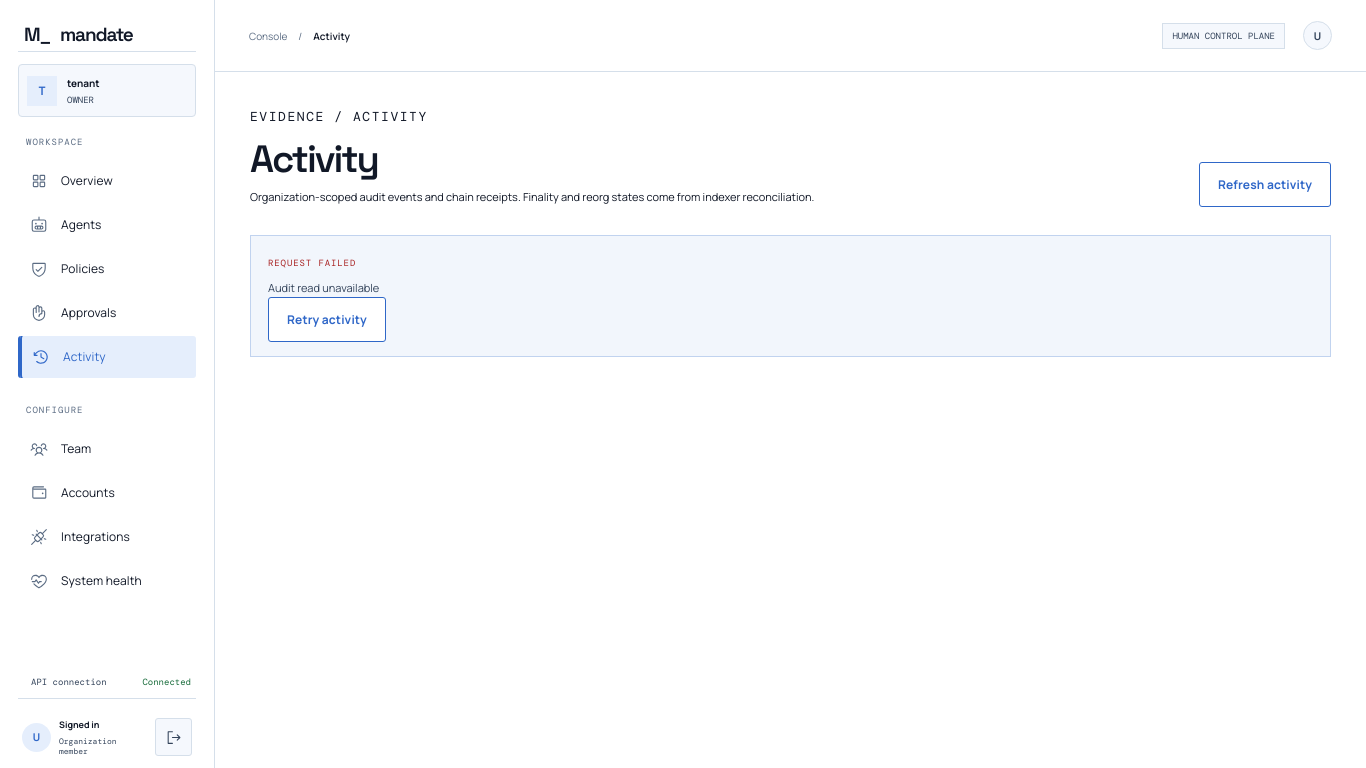
Test: retries a failed activity read and shows the new authoritative audit event
The image size is (1366, 768).
Step 1. Click the button "Retry activity" → (327, 320), box top-left (268, 297), bottom-right (386, 342)
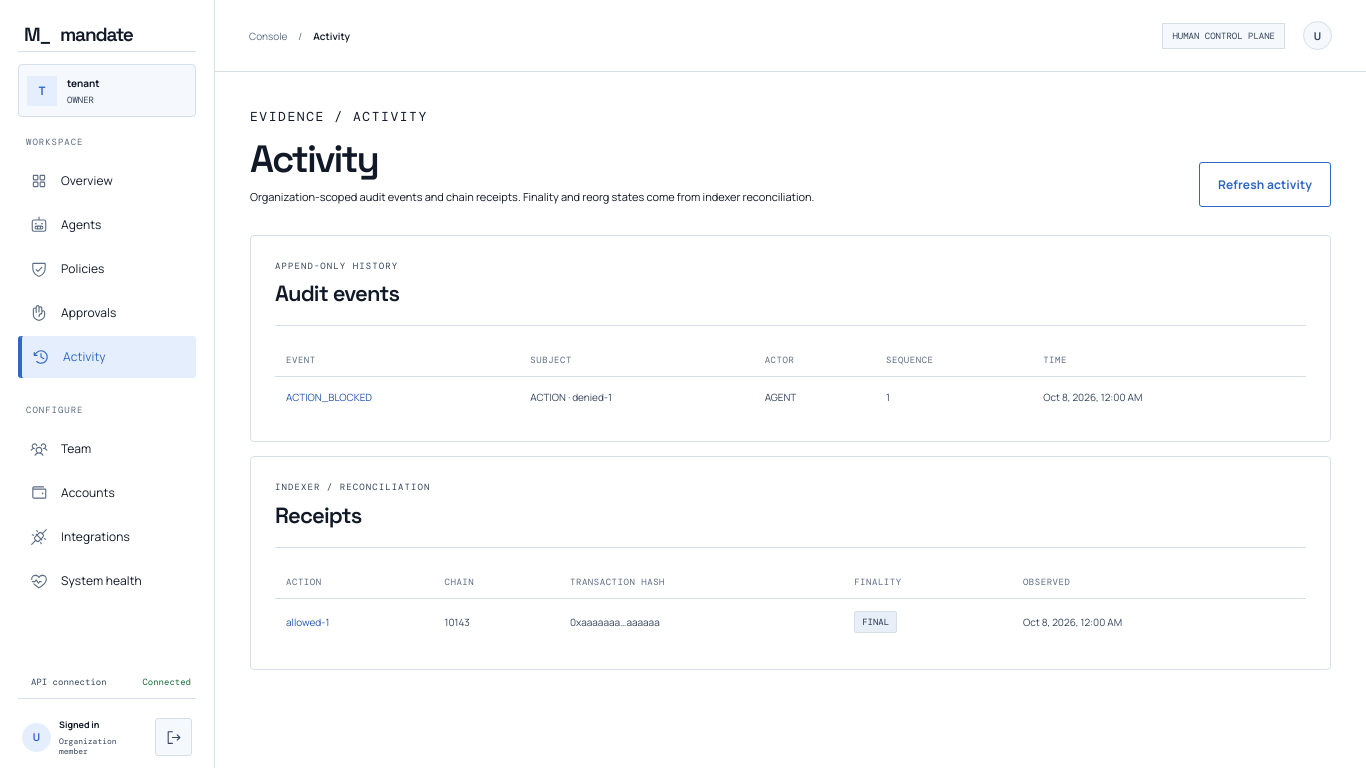
Expected: the text "ACTION_BLOCKED" is shown, top-left (286, 390), bottom-right (372, 404)
Expected: the text "denied-1" is shown, top-left (530, 390), bottom-right (612, 404)
Expected: the text "allowed-1" is shown, top-left (286, 615), bottom-right (329, 629)
